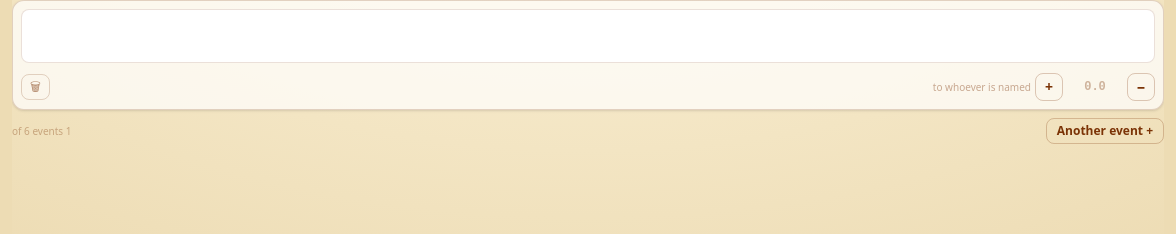
Test: editing the night’s events › writes the markers so nobody has to type them
The width and height of the screenshot is (1176, 234).
Type "שי שם 4 גולים" into the text box at (588, 36), box [21, 9, 1155, 63]
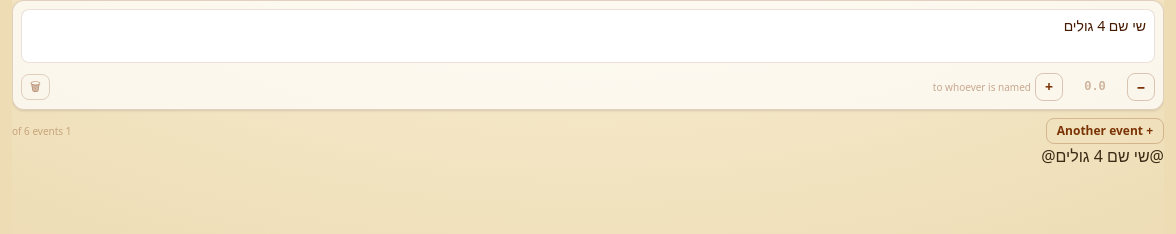
Click the button named "Half a point up" at (1049, 87), box [1035, 73, 1063, 101]
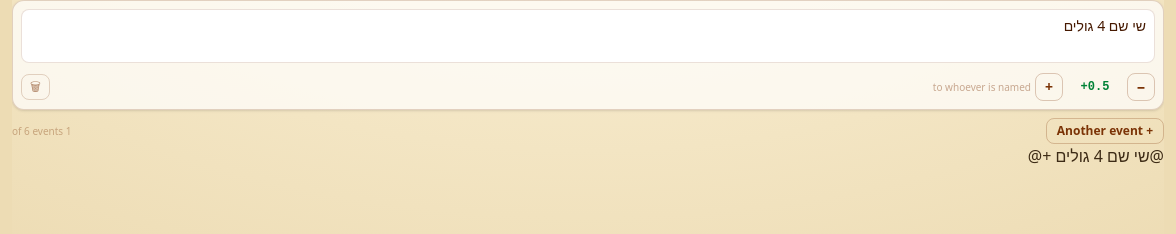
Expected: the text with test id "stored" reads "@שי שם 4 גולים +@", [1028, 145, 1164, 167]
Click the button named "Half a point down" at (1141, 87), box [1127, 73, 1155, 101]
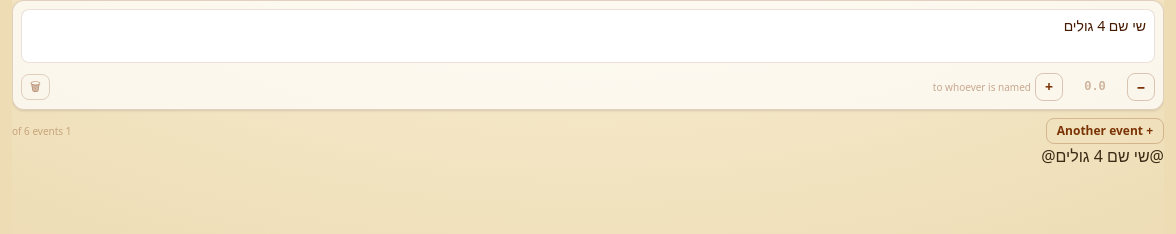
Click the button named "Half a point down" at (1141, 87), box [1127, 73, 1155, 101]
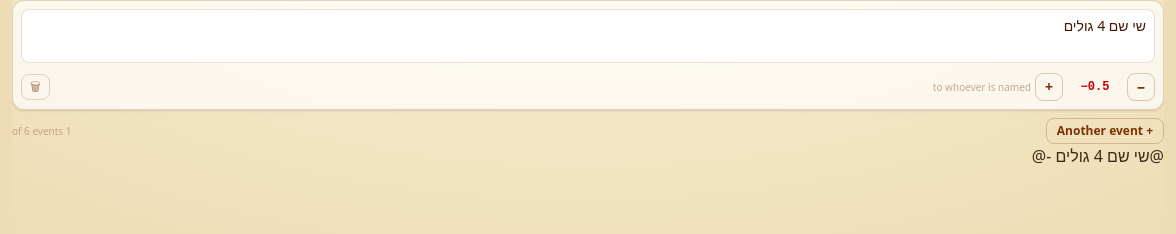
Expected: the text with test id "stored" reads "@שי שם 4 גולים -@", [1032, 145, 1164, 167]
